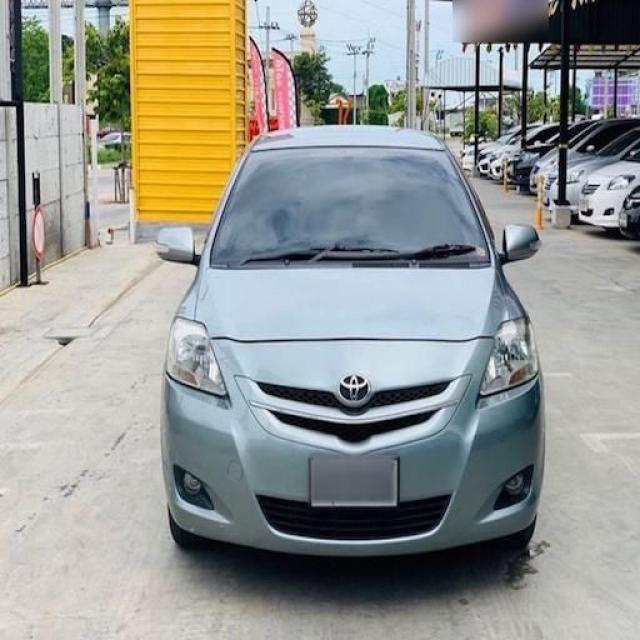front_bumper: (159, 337, 546, 556)
front_glass: (211, 146, 492, 270)
front_left_light: (480, 316, 538, 398)
front_right_light: (166, 316, 227, 398)
hood: (194, 267, 511, 340)
left_mirror: (499, 221, 540, 265)
right_mirror: (154, 228, 203, 267)
